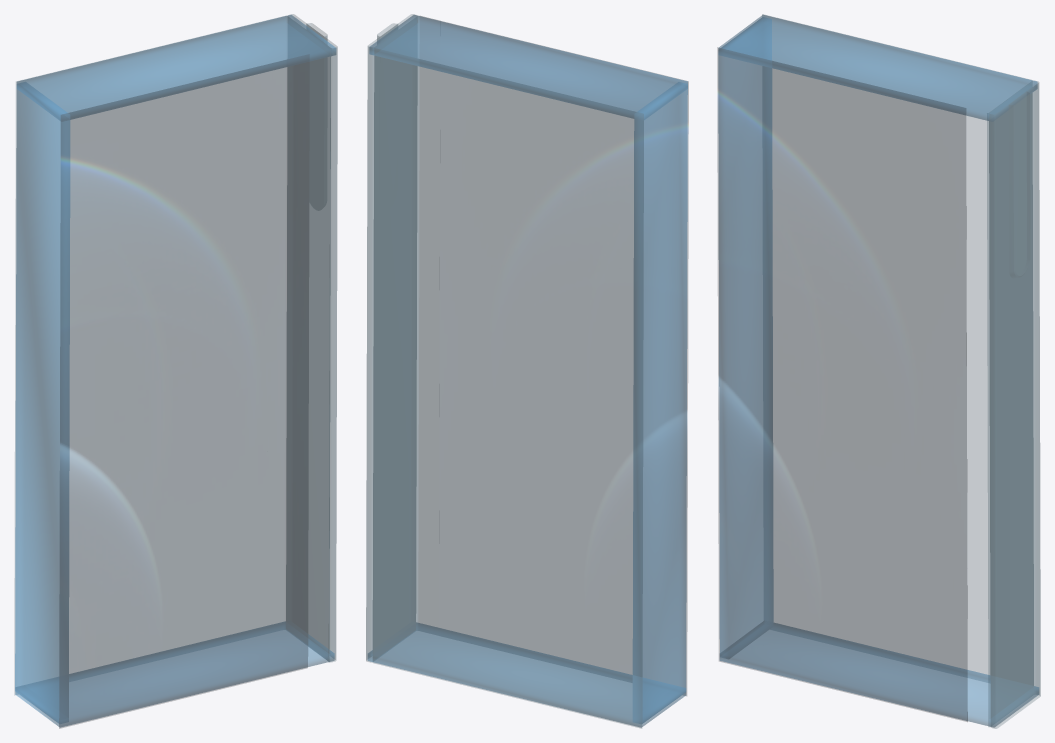
The picture shows the model from 3 angles, left to right: view 1: azimuth 30°, elevation 25°; view 2: azimuth 150°, elevation 25°; view 3: azimuth 330°, elevation 25°; orthographic projection.
Visible parts, largest first — view 1: Apple_Logo_Logo_0, Box003, Box005, Box006; view 2: Apple_Logo_Logo_0, Box003, Box005, Box006; view 3: Apple_Logo_Logo_0, Box003, Box005, Box006.
Boxes of the visible parts, <box> form: Apple_Logo_Logo_0: <box>14,14,337,728</box>; Box003: <box>15,82,69,723</box>; Box005: <box>17,15,335,121</box>; Box006: <box>15,621,334,727</box>; Apple_Logo_Logo_0: <box>366,14,688,728</box>; Box003: <box>633,82,687,723</box>; Box005: <box>369,15,687,120</box>; Box006: <box>368,622,685,727</box>; Apple_Logo_Logo_0: <box>717,14,1040,728</box>; Box003: <box>718,17,773,658</box>; Box005: <box>718,15,1037,121</box>; Box006: <box>720,621,1038,727</box>.
Size of the model in its own units: 49.46 by 103 by 14.15.
5 materials, 1 textured.
